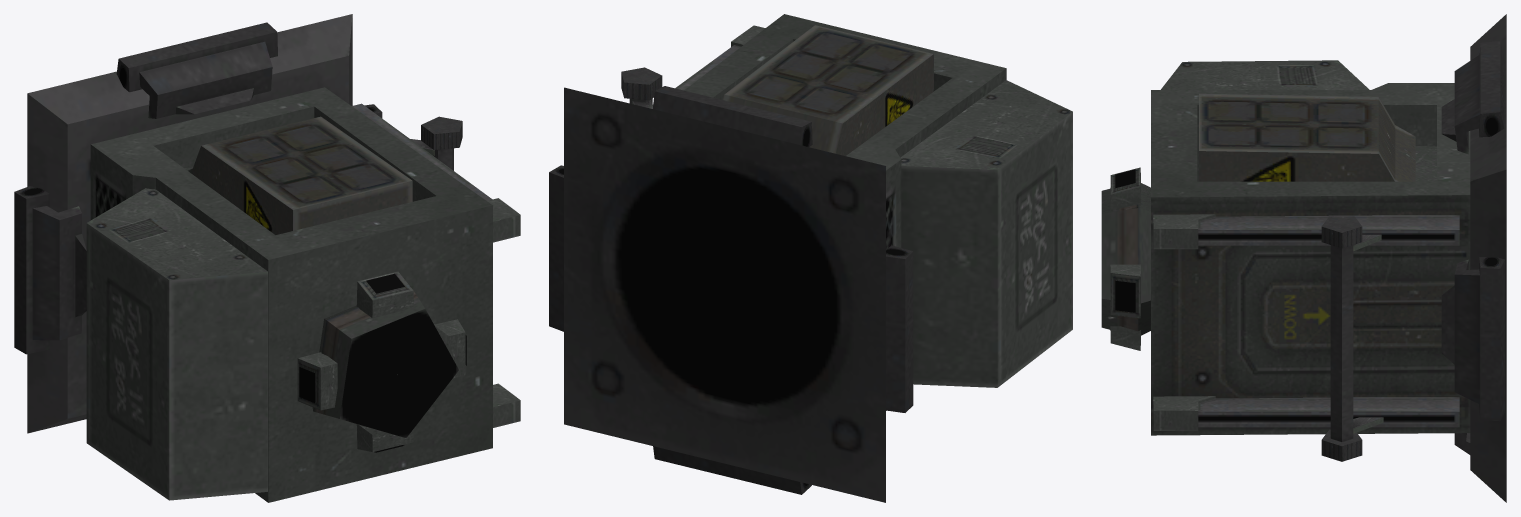
File: t6_wpn_trophy_system_world_LOD1.obj
3 views of the same model, side by side, from view 1: azimuth 30°, elevation 25°; view 2: azimuth 150°, elevation 25°; view 3: azimuth 270°, elevation 25° (orthographic). The views are drawn at different scales.
Visible parts, largest first — view 1: mtl_t6_wpn_trophy_system; view 2: mtl_t6_wpn_trophy_system; view 3: mtl_t6_wpn_trophy_system.
Part boxes in pixels (x1,y1,x2,y2): mtl_t6_wpn_trophy_system: [14, 14, 520, 502]; mtl_t6_wpn_trophy_system: [549, 14, 1072, 502]; mtl_t6_wpn_trophy_system: [1101, 14, 1506, 502].
Bounding box in the file's own units: 51.49 × 48.33 × 48.74.
